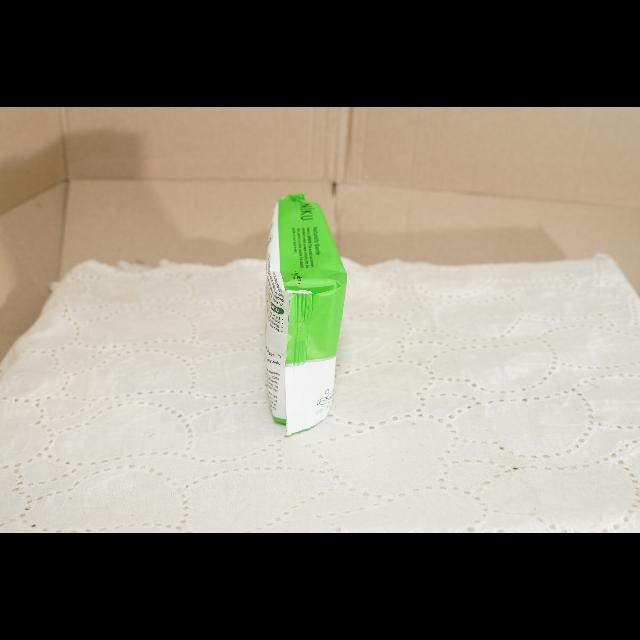khan_giay: (265, 194, 347, 436)
